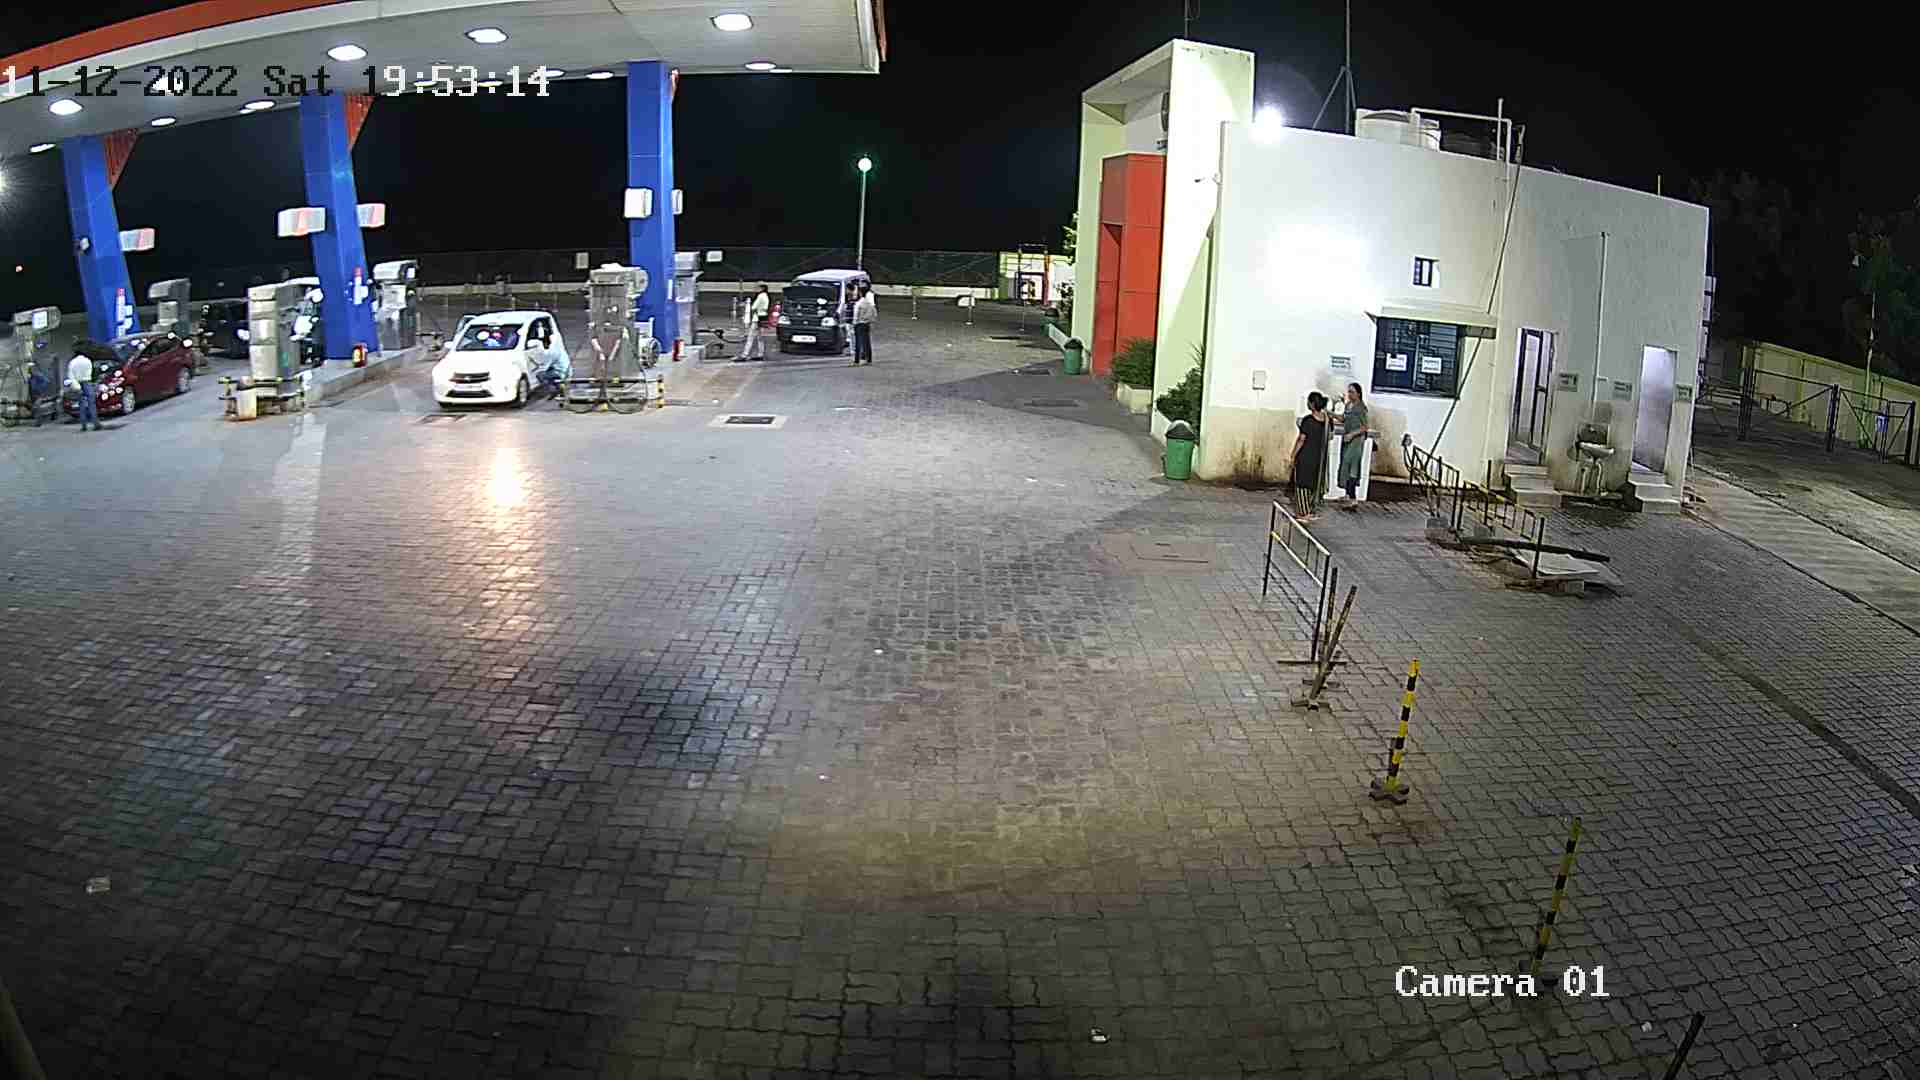Car: (423, 295, 582, 421), (54, 323, 200, 425), (764, 255, 882, 360), (276, 272, 327, 371), (191, 291, 257, 363)
